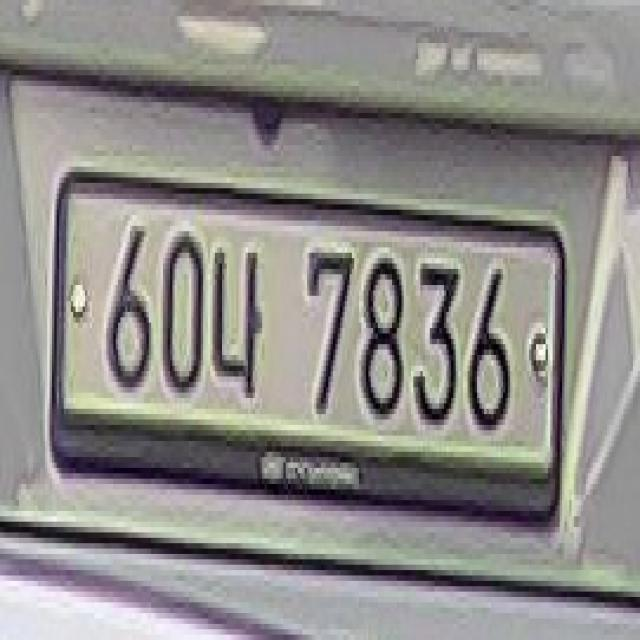0: (156, 220, 204, 402)
3: (412, 247, 458, 427)
6: (100, 210, 150, 392), (463, 258, 514, 432)
7: (302, 238, 358, 430)
8: (361, 242, 408, 418)
license_plate: (37, 144, 575, 554)
na: (210, 227, 272, 405)
